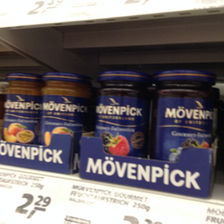jam: (152, 70, 218, 162), (96, 70, 150, 157), (38, 72, 89, 145), (4, 74, 39, 146)
